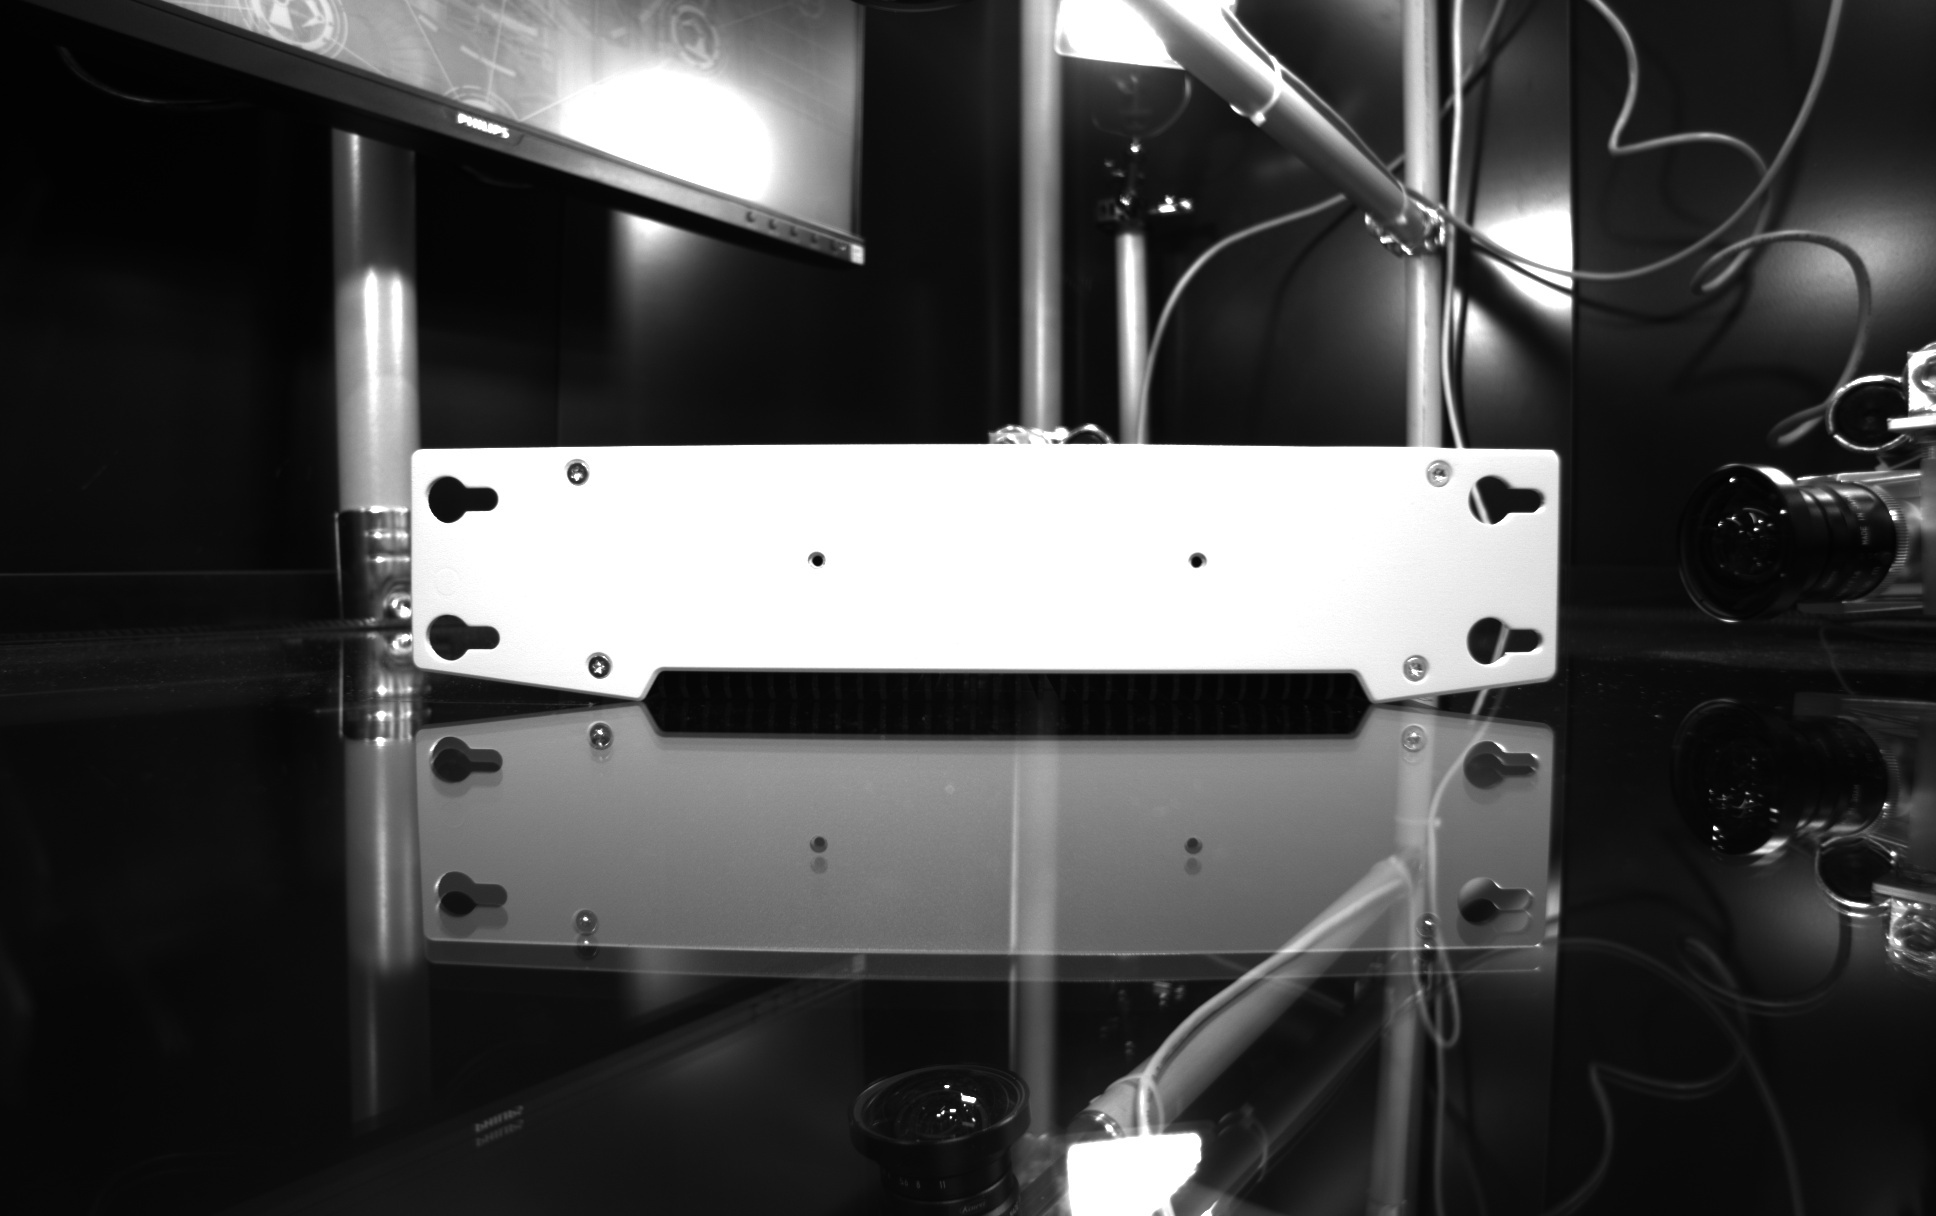CamBack: (381, 412, 1593, 703)
Schraube: (579, 646, 618, 686), (1419, 455, 1458, 495), (558, 454, 595, 495), (1397, 649, 1434, 688)
Schraube_gespiegelt: (565, 904, 607, 969), (1404, 908, 1451, 965), (579, 714, 621, 771), (1390, 719, 1434, 771)
